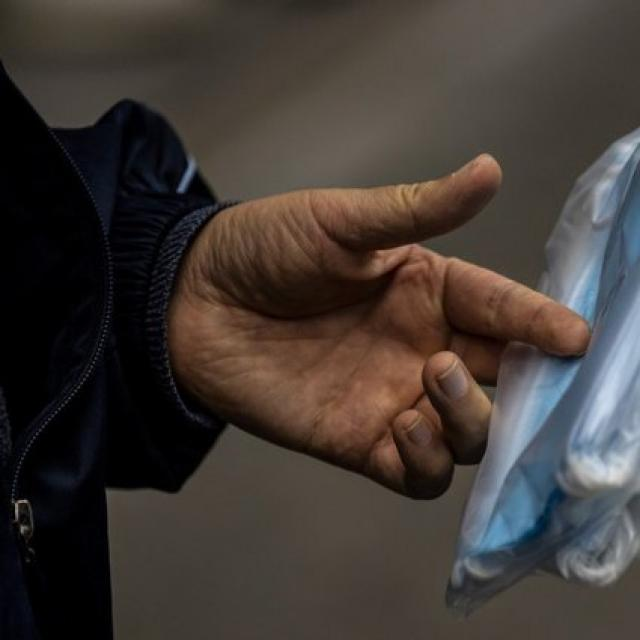non-organic waste: (480, 122, 640, 607)
